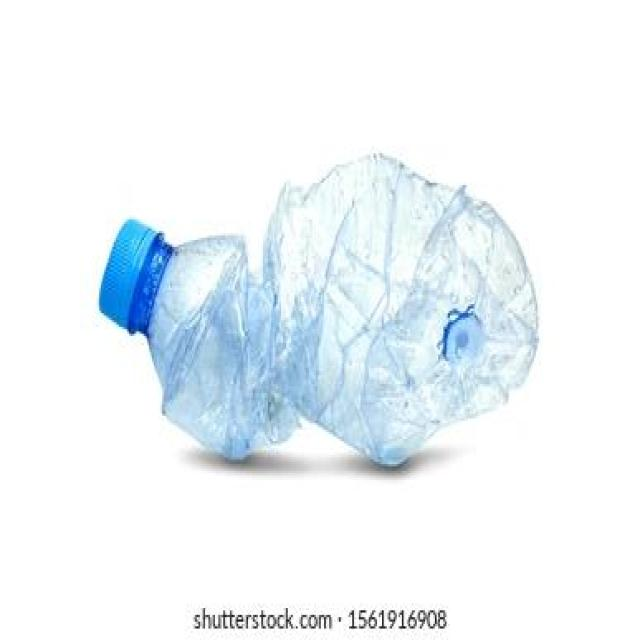plastic bottle: (146, 148, 540, 470)
plastic bottle cap: (98, 217, 166, 336)
